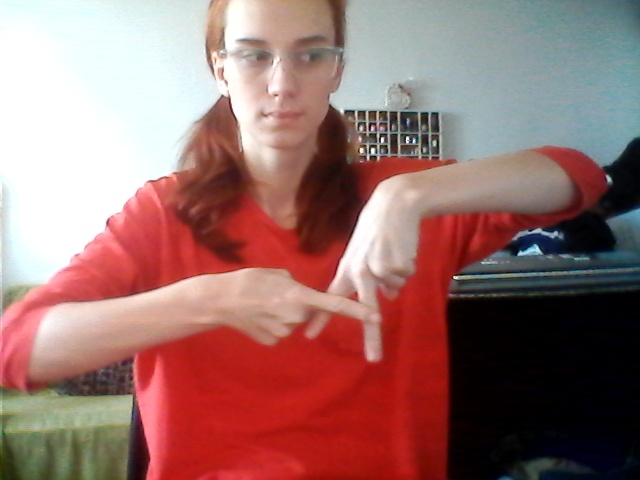a: (235, 251, 426, 370)
